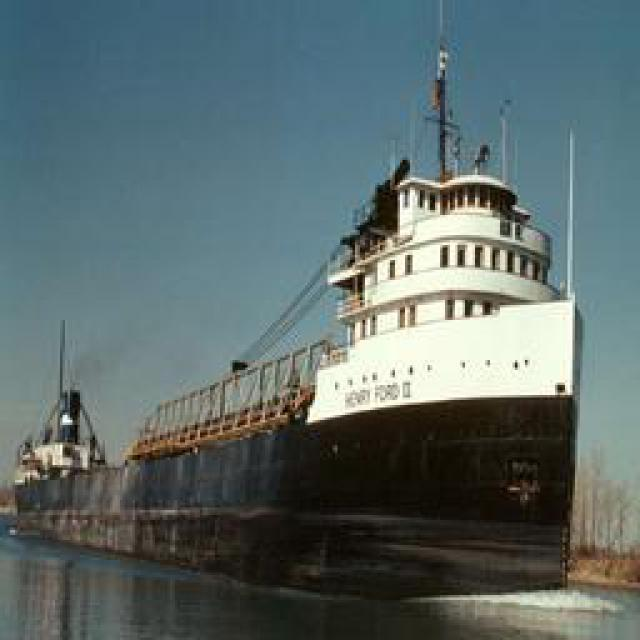Ship: (15, 127, 591, 603)
